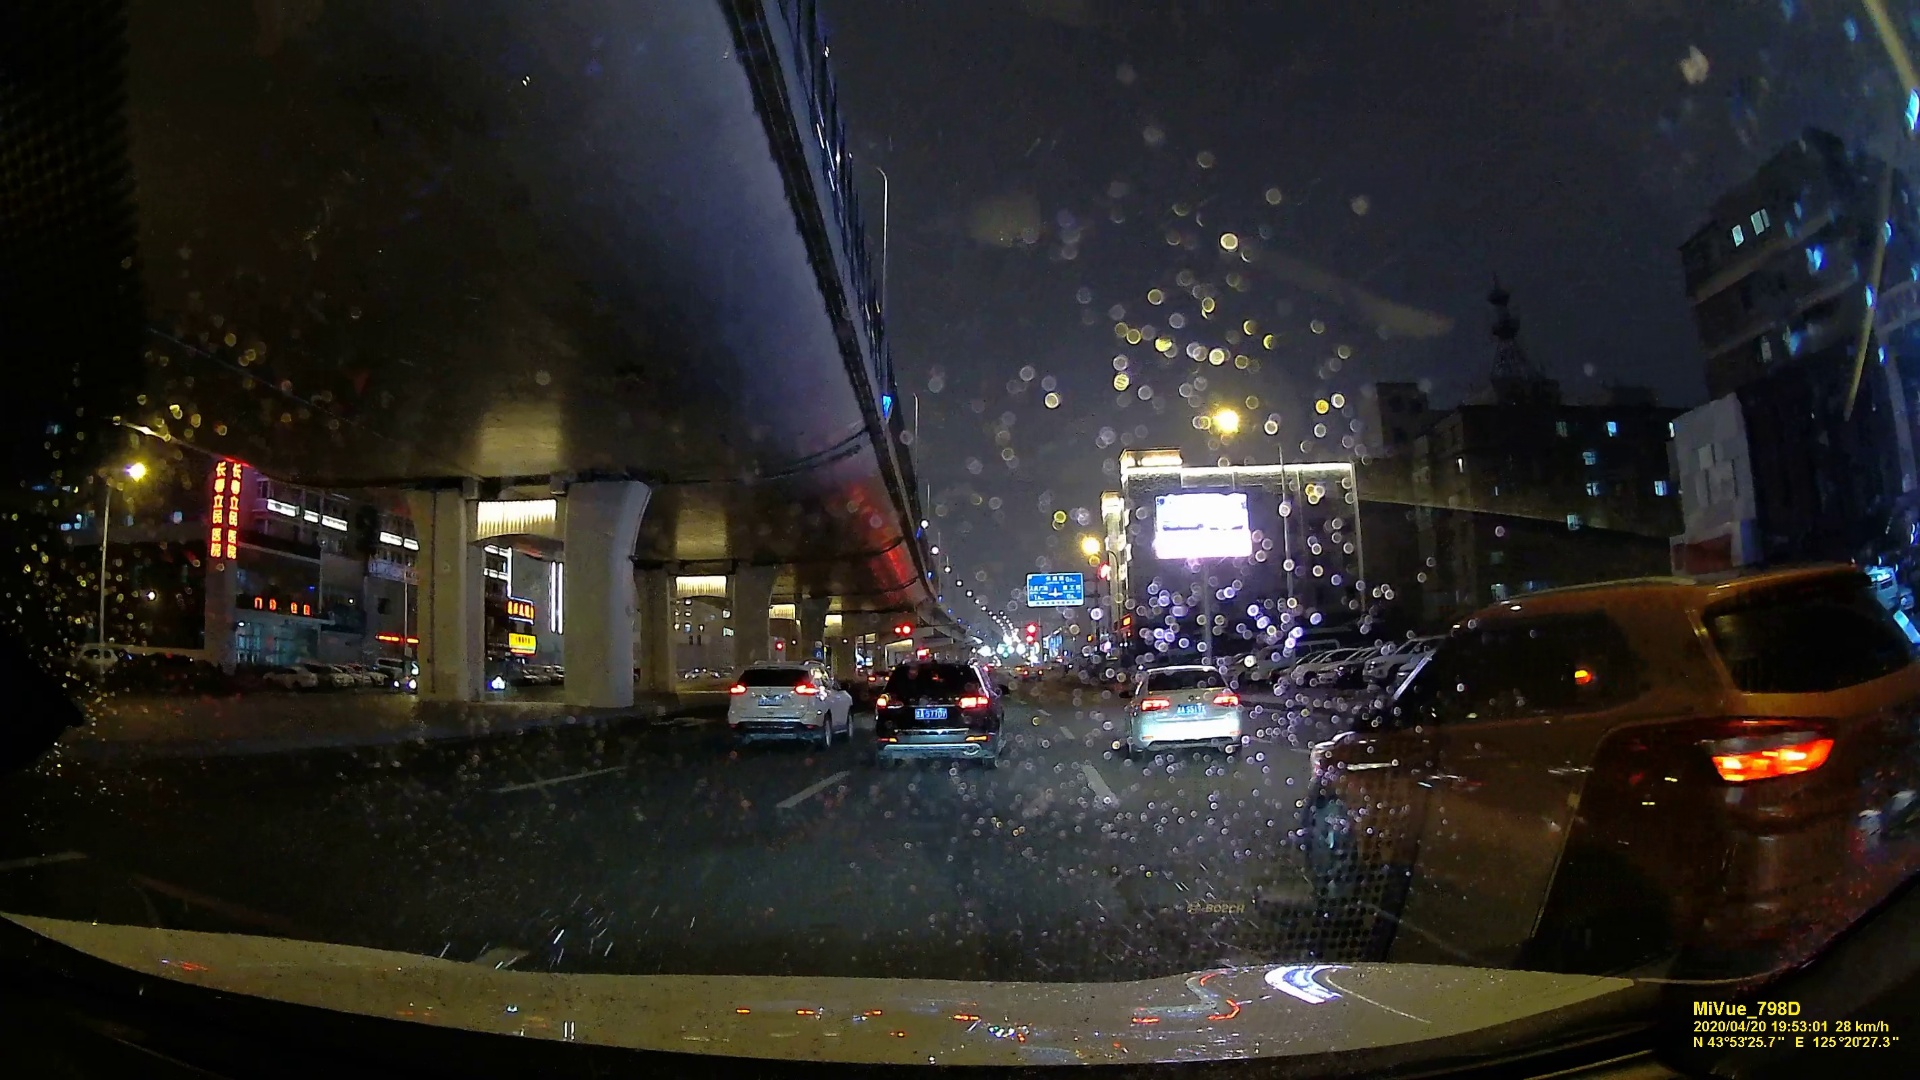traffic_sign: (1026, 575, 1083, 607)
vehicle: (1305, 560, 1905, 976), (872, 661, 1007, 767), (725, 658, 855, 750), (1120, 666, 1240, 754)
